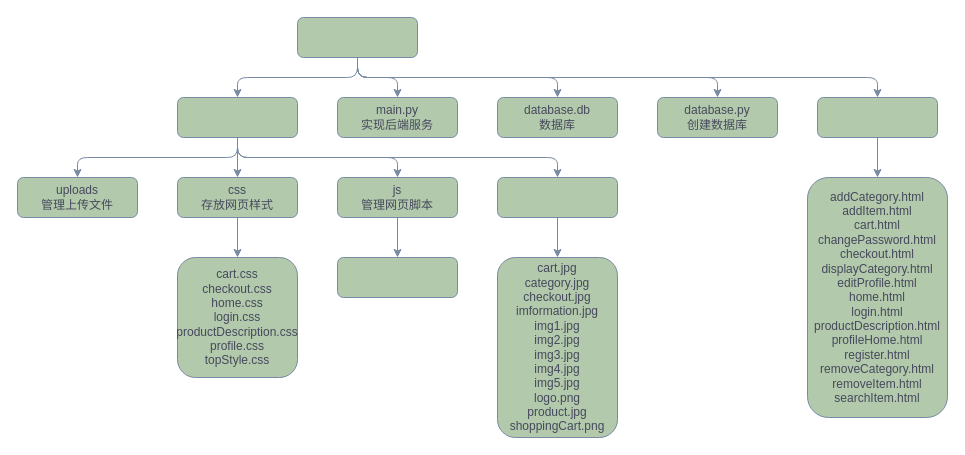
Some shapes in this 965 by 455 pixel diagram are drawn without their labels. The shapes that lost their labels are listed below. From the top down, each one's centre as x and y in pixels, then its label:
At (357,37): "root 项目根目录".
At (237,117): "static 网站静态资源".
At (877,117): "templates 存放html模板".
At (557,197): "images 存放网站图片".
At (397,277): "changePassword.js validateForm.js".
